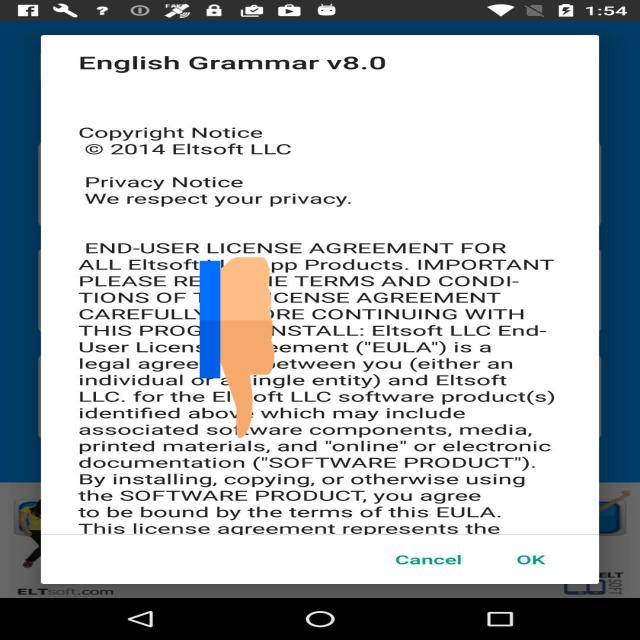obstruction: (200, 252, 274, 442)
